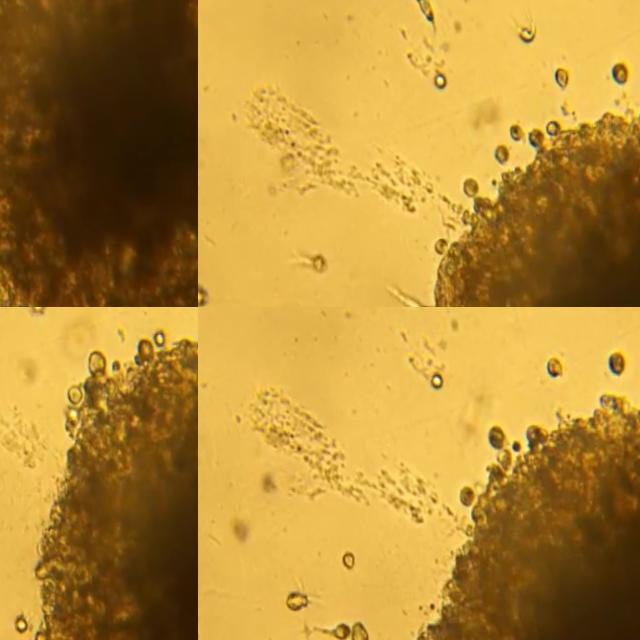cell: (513, 21, 538, 43), (316, 623, 346, 640), (414, 0, 432, 25), (608, 62, 628, 83), (605, 352, 623, 374), (284, 594, 305, 611), (459, 485, 474, 506), (545, 358, 561, 377), (349, 621, 365, 640), (431, 71, 445, 92), (494, 145, 509, 164), (556, 67, 569, 87), (307, 253, 321, 271), (460, 180, 476, 195), (506, 126, 521, 141), (340, 552, 353, 568), (13, 616, 26, 631), (428, 374, 443, 386), (198, 287, 205, 303), (30, 307, 43, 313)
tumor_mass: (0, 0, 198, 307), (412, 394, 640, 640), (30, 331, 198, 640), (431, 114, 640, 307)
